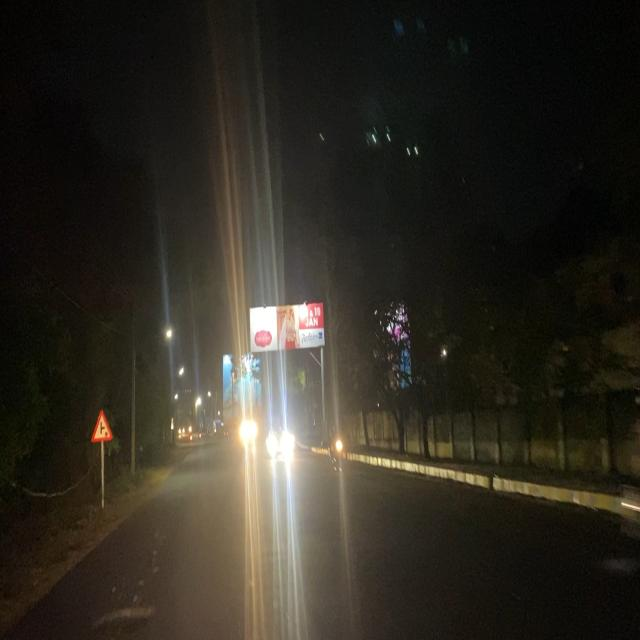bien_cam: (90, 404, 114, 442)
